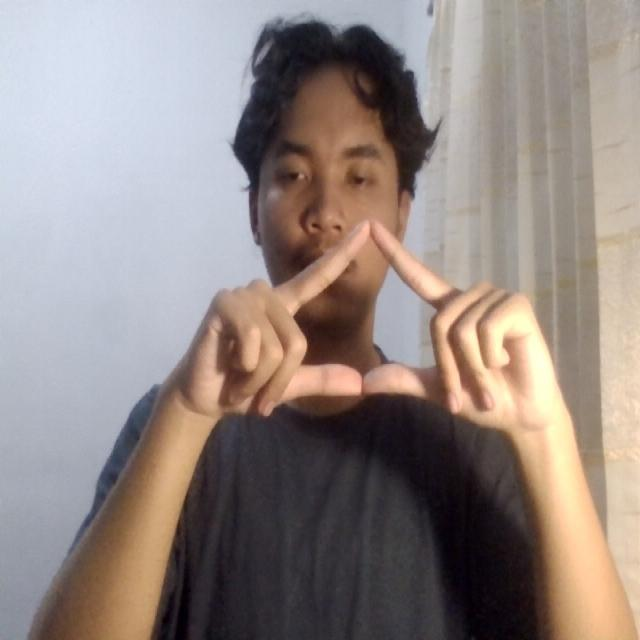A: (153, 205, 577, 439)
